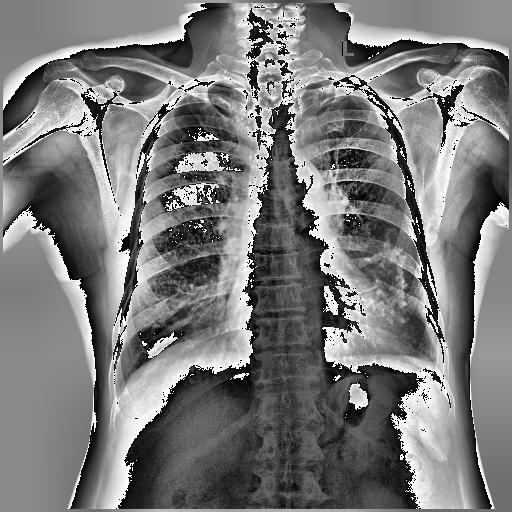0- Aortic enlargement: (274, 156, 324, 205)
10- Pleural effusion: (426, 350, 446, 381)
11- Pleural thickening: (324, 249, 408, 325), (420, 268, 454, 380), (364, 239, 406, 325), (422, 298, 444, 348), (359, 88, 387, 119), (426, 350, 446, 381)
13- Pulmonary fibrosis: (360, 242, 412, 324), (159, 136, 182, 164), (162, 140, 184, 162)
2- Calcification: (360, 242, 412, 324), (364, 239, 406, 325)
3- Cardiomegaly: (220, 292, 398, 352)
6- Infiltration: (166, 142, 184, 159)
9- Other lesion: (360, 242, 412, 324)
